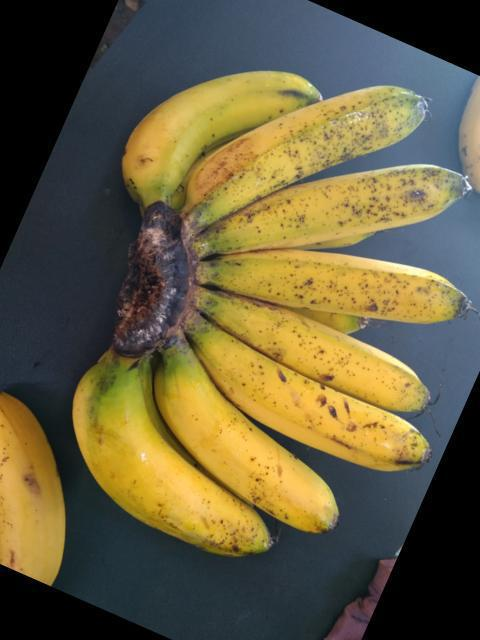ripe: (88, 361, 283, 570), (185, 75, 435, 221), (160, 346, 352, 526), (192, 329, 429, 473), (209, 148, 472, 260), (115, 54, 295, 211), (197, 235, 460, 318), (0, 375, 72, 590)
